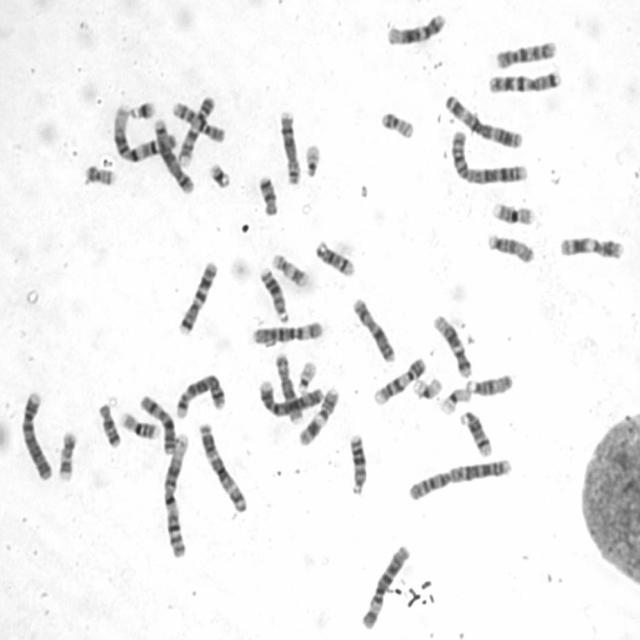A1: (110, 101, 180, 163), (160, 429, 191, 559)
A2: (406, 454, 514, 502), (448, 125, 530, 186)
A3: (195, 418, 251, 514), (442, 90, 525, 150)
B4: (17, 386, 55, 482), (256, 377, 324, 417)
B5: (152, 116, 196, 194), (173, 370, 227, 420)
C10: (169, 96, 227, 144), (494, 36, 558, 70)
C11: (295, 382, 341, 448), (555, 230, 625, 260)
C12: (430, 310, 474, 379), (384, 9, 448, 46)
C6: (358, 540, 413, 632), (247, 317, 326, 347)
C7: (174, 257, 220, 337), (485, 66, 563, 95)
C8: (272, 348, 304, 425), (278, 106, 302, 186)
C9: (370, 352, 429, 406), (175, 93, 217, 165)
D13: (256, 262, 290, 324), (346, 431, 368, 496)
D14: (457, 406, 494, 458), (312, 236, 356, 278)
D15: (484, 230, 536, 264), (464, 367, 516, 397)
E16: (116, 408, 159, 441), (490, 198, 536, 226)
E17: (268, 248, 310, 288), (55, 426, 79, 482)
E18: (95, 399, 122, 449), (256, 170, 280, 218)
F19: (437, 384, 472, 416), (410, 373, 444, 401)
F20: (379, 107, 417, 140), (80, 160, 116, 187)
G21: (205, 159, 232, 189), (127, 96, 157, 121)
G22: (295, 356, 318, 394), (302, 139, 322, 178)
X: (349, 292, 398, 364), (139, 392, 177, 455)
